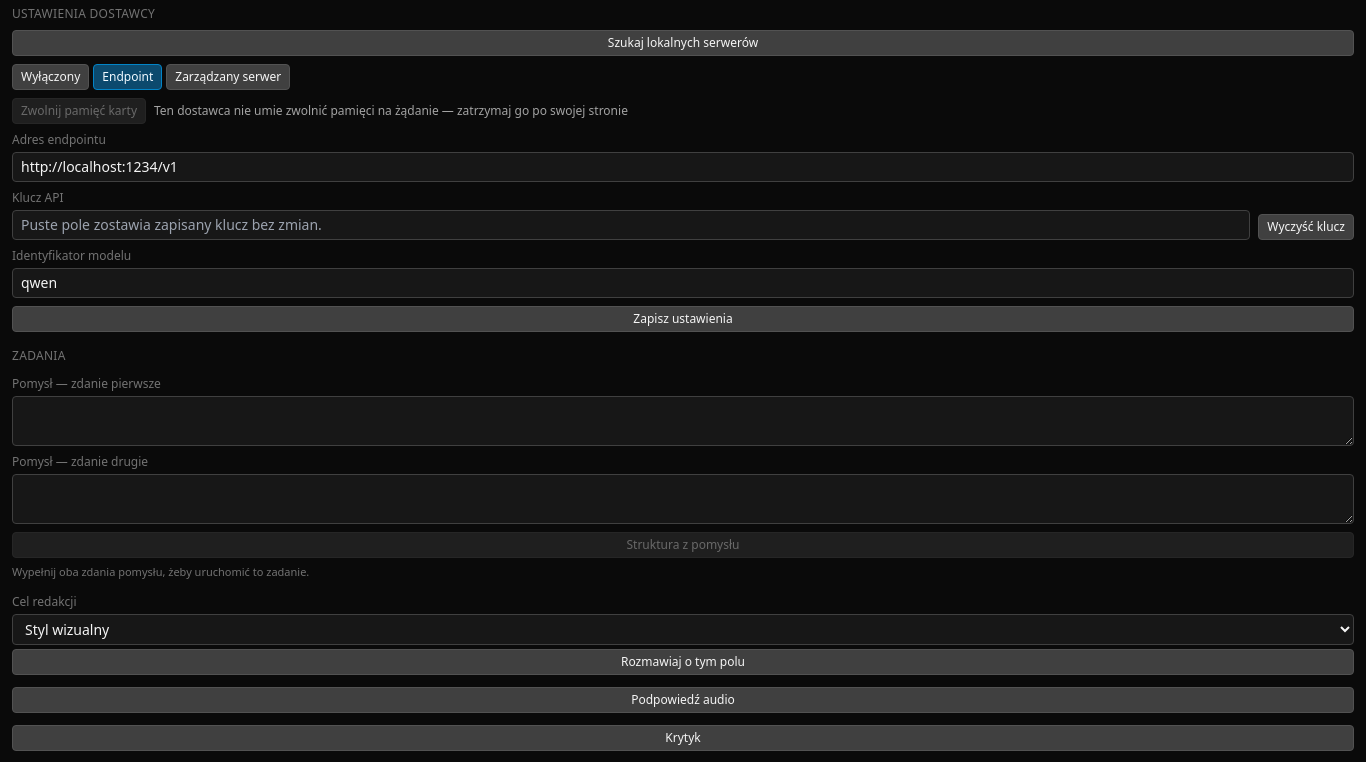
Scenario: LlmPanel — wejście do rozmowy o polu › kliknięcie otwiera okno rozmowy dla celu wybranego w liście
This screenshot has width=1366, height=762.
Select "Tło dźwiękowe" in the dropdown labelled "Cel redakcji" at point(683, 630), box [12,614,1354,645]
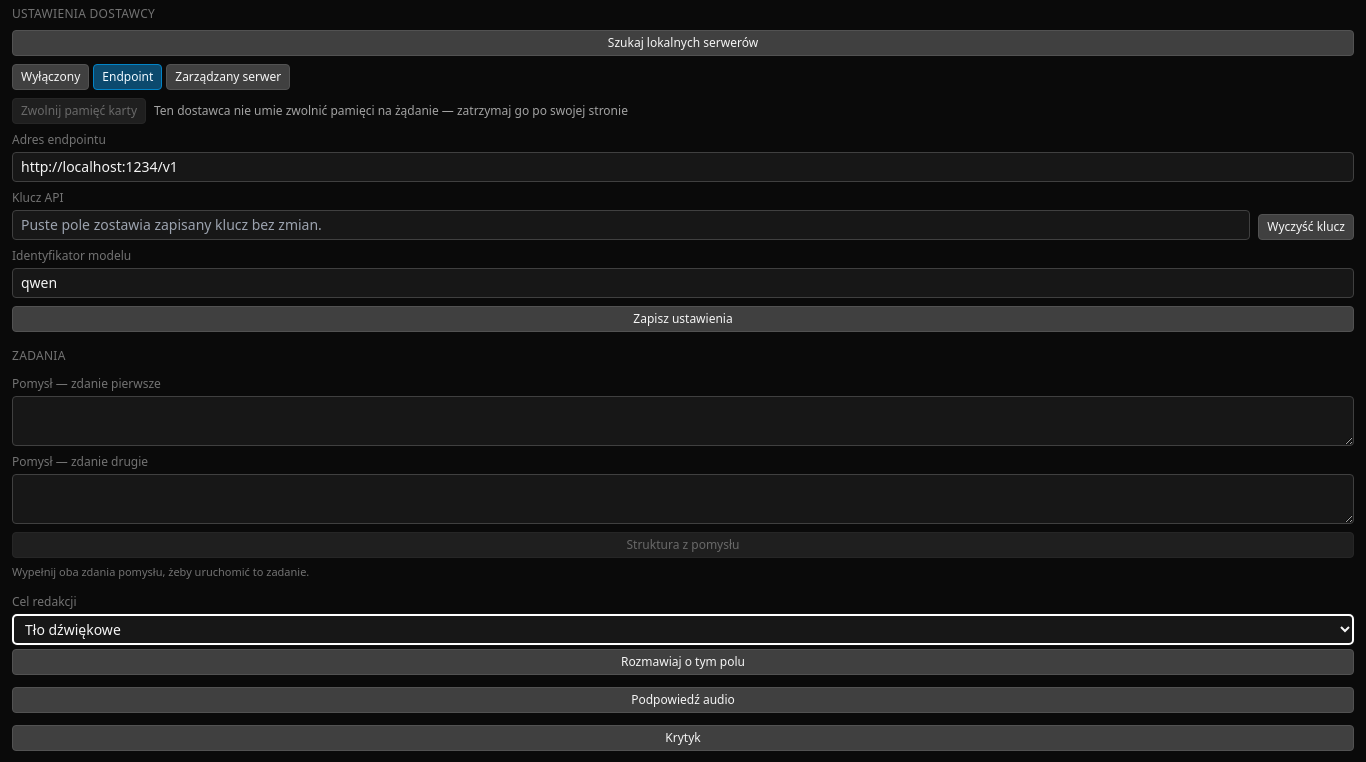
Click the button "Rozmawiaj o tym polu" at point(683, 662), box [12,649,1354,675]
(page scrolled)
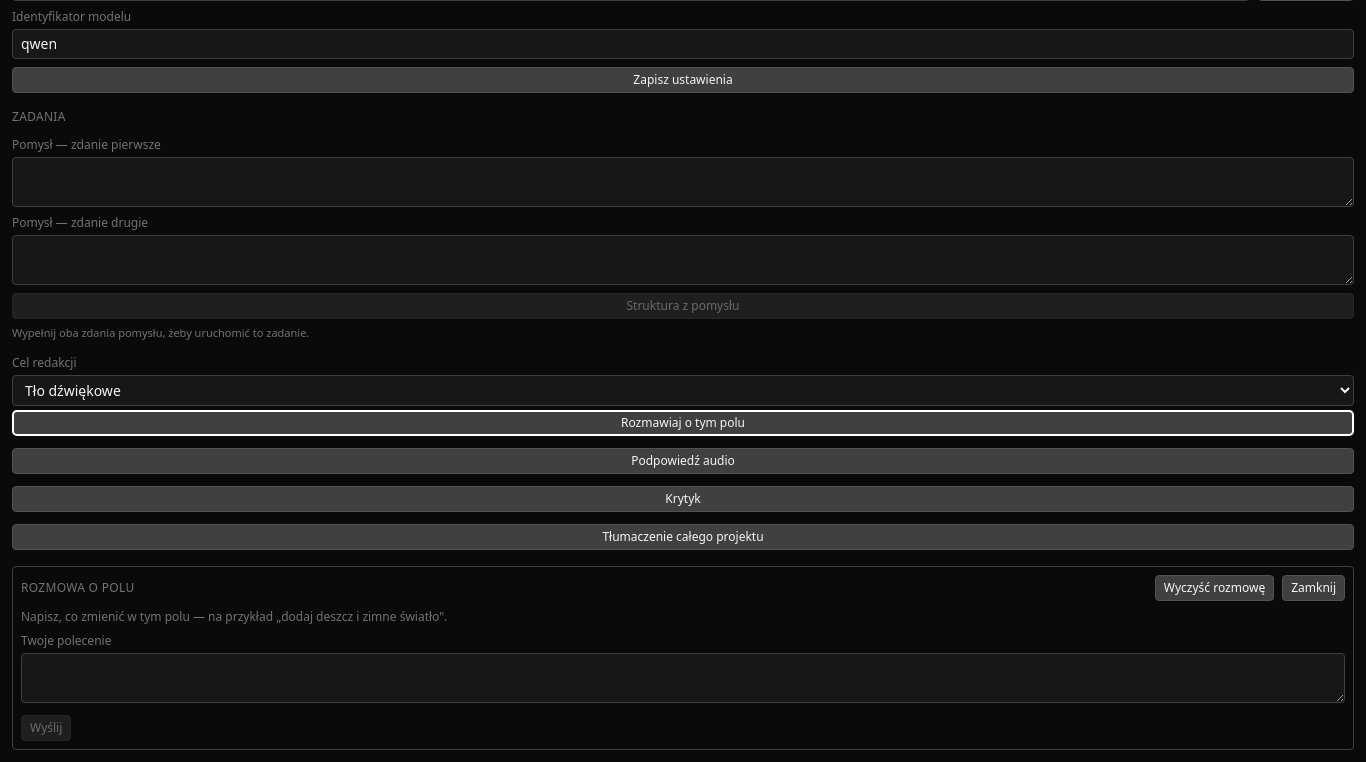
Result: the dialog "Rozmowa o polu" is shown at [12,566,1354,750]
